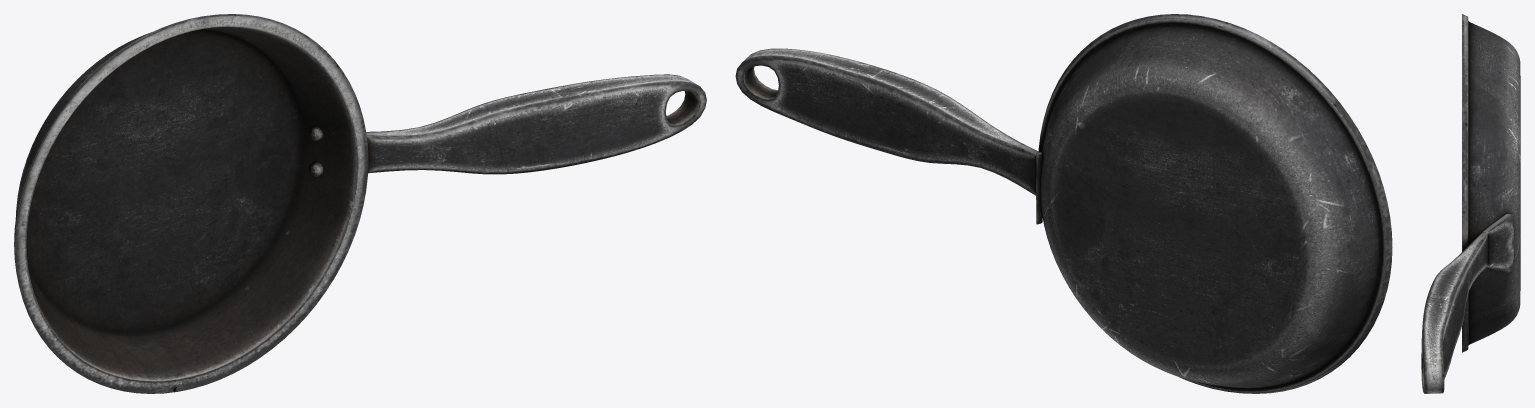
Rendered from frying_pan.obj.
3 views of the same model, side by side, from view 1: azimuth 30°, elevation 25°; view 2: azimuth 150°, elevation 25°; view 3: azimuth 270°, elevation 25° (orthographic). The views are drawn at different scales.
Parts seen in each view (by area): view 1: rust_pan; view 2: rust_pan; view 3: rust_pan.
Boxes of the visible parts, x1,y1,x2,y2 form: rust_pan: [14, 14, 706, 393]; rust_pan: [735, 14, 1392, 393]; rust_pan: [1421, 14, 1520, 393].
Size of the model in its own units: 0.4042 by 0.2133 by 0.0624.
Materials: 1 (1 with a texture image).
